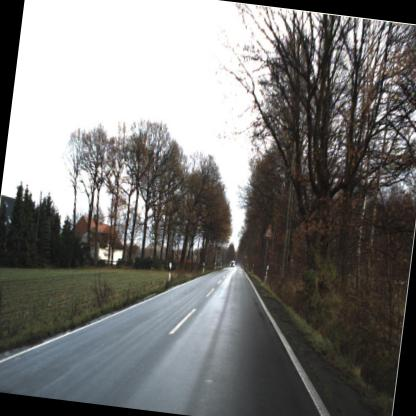danger: (256, 215, 278, 247)
